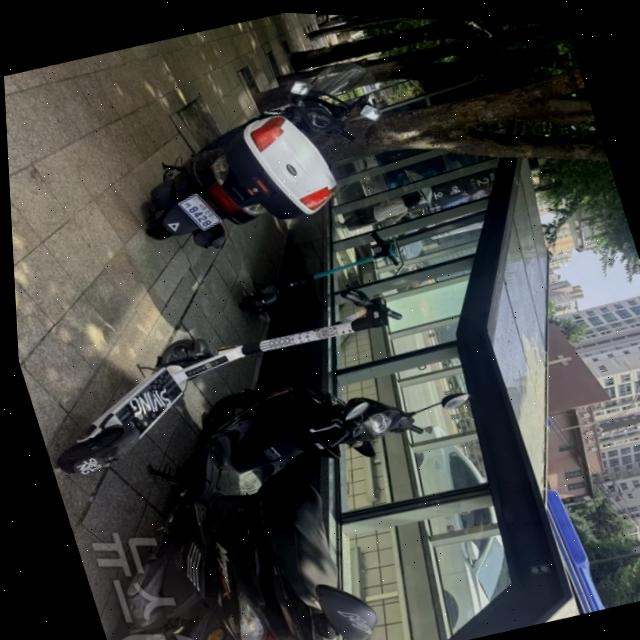kickboard_no: (134, 287, 397, 398), (233, 228, 414, 319)
